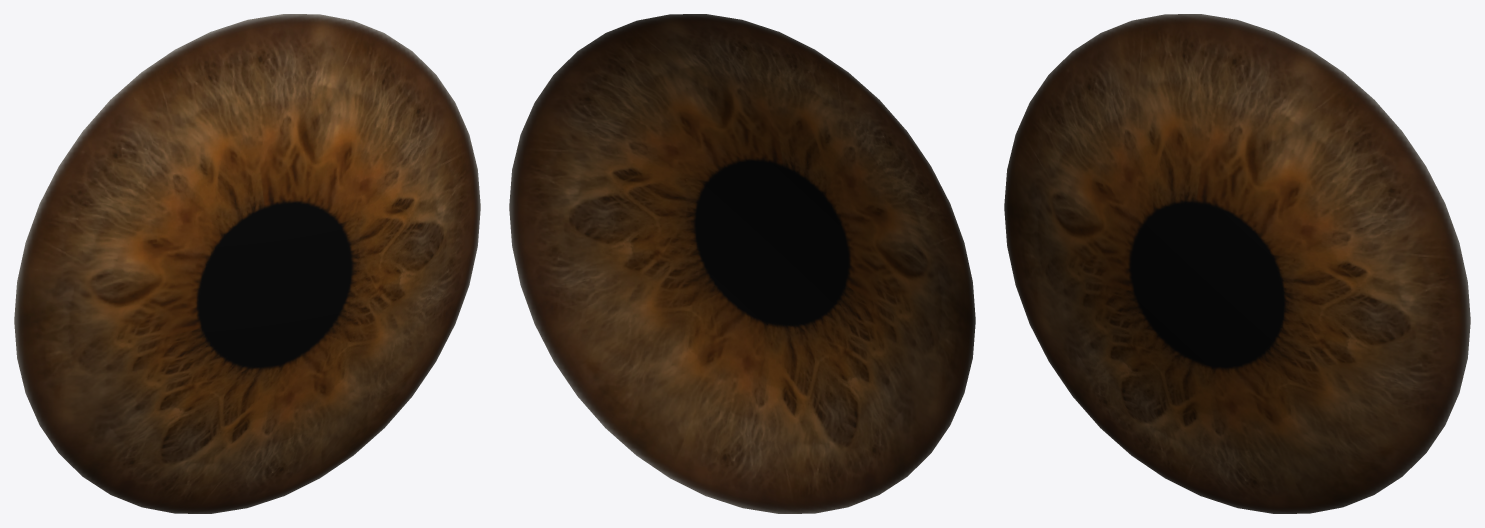
File: 虹膜瞳孔.FBX
The picture shows the model from 3 angles, left to right: view 1: azimuth 30°, elevation 25°; view 2: azimuth 150°, elevation 25°; view 3: azimuth 330°, elevation 25°; orthographic projection.
Parts seen in each view (by area): view 1: 虹膜001; view 2: 虹膜001; view 3: 虹膜001.
Part boxes in pixels (x1,y1,x2,y2): 虹膜001: (14, 14, 480, 513); 虹膜001: (509, 14, 975, 513); 虹膜001: (1004, 14, 1470, 513).
Size of the model in its own units: 31.55 by 31.55 by 3.39.
